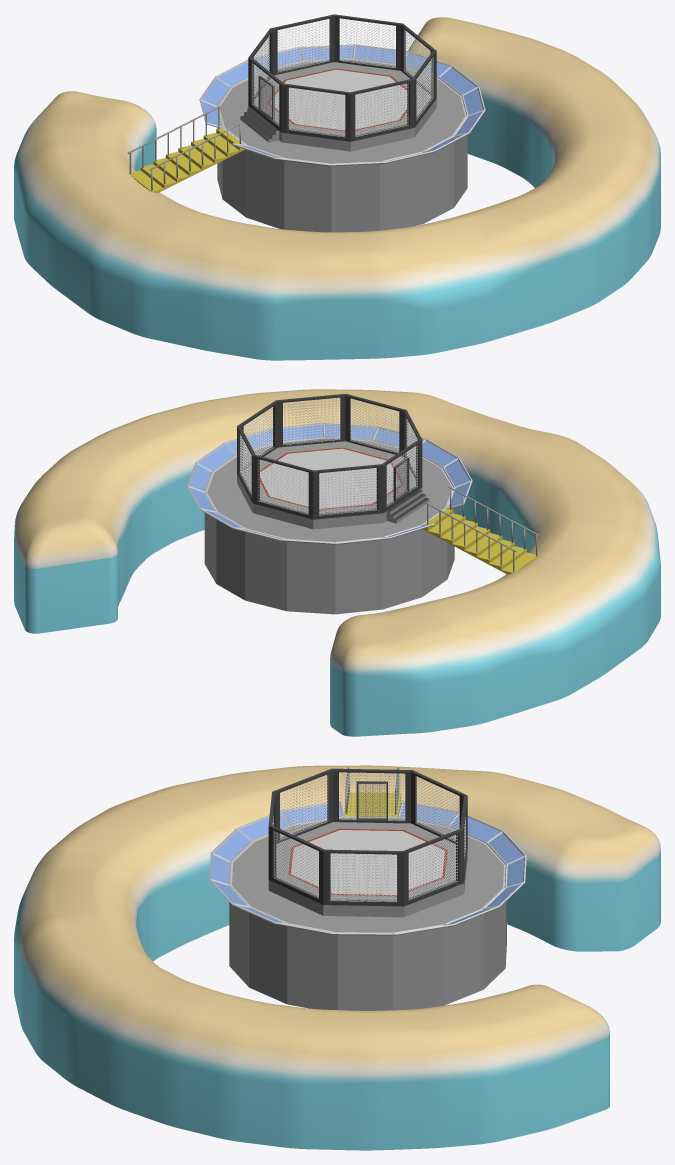
Rendered from island.fbx.
The picture shows the model from 3 angles, top to bottom: view 1: azimuth 30°, elevation 25°; view 2: azimuth 150°, elevation 25°; view 3: azimuth 270°, elevation 25°; orthographic projection. The views are drawn at different scales.
Visible parts, largest first — view 1: Cylinder, Cylinder.001, Cylinder.003, Cylinder.006, Cylinder.002, Cylinder.010; view 2: Cylinder, Cylinder.001, Cylinder.003, Cylinder.006, Cylinder.002, Cylinder.010; view 3: Cylinder, Cylinder.001, Cylinder.003, Cylinder.006, Cylinder.002, Cylinder.010, Cube.001.
Part boxes in pixels (box(x1,y1,x2,y2)): Cylinder: box(14, 17, 660, 360); Cylinder.001: box(129, 59, 467, 232); Cylinder.003: box(240, 14, 436, 151); Cylinder.006: box(253, 19, 433, 137); Cylinder.002: box(199, 44, 485, 166); Cylinder.010: box(252, 63, 279, 125); Cylinder: box(14, 389, 660, 736); Cylinder.001: box(204, 437, 538, 614); Cylinder.003: box(237, 393, 429, 529); Cylinder.006: box(240, 398, 417, 515); Cylinder.002: box(187, 423, 472, 544); Cylinder.010: box(386, 445, 417, 506); Cylinder: box(14, 765, 660, 1150); Cylinder.001: box(229, 792, 506, 1010); Cylinder.003: box(268, 768, 467, 917); Cylinder.006: box(272, 774, 465, 901); Cylinder.002: box(209, 800, 526, 935); Cylinder.010: box(339, 772, 404, 820); Cube.001: box(358, 784, 385, 818).
Size of the model in its own units: 815 by 252 by 730.
